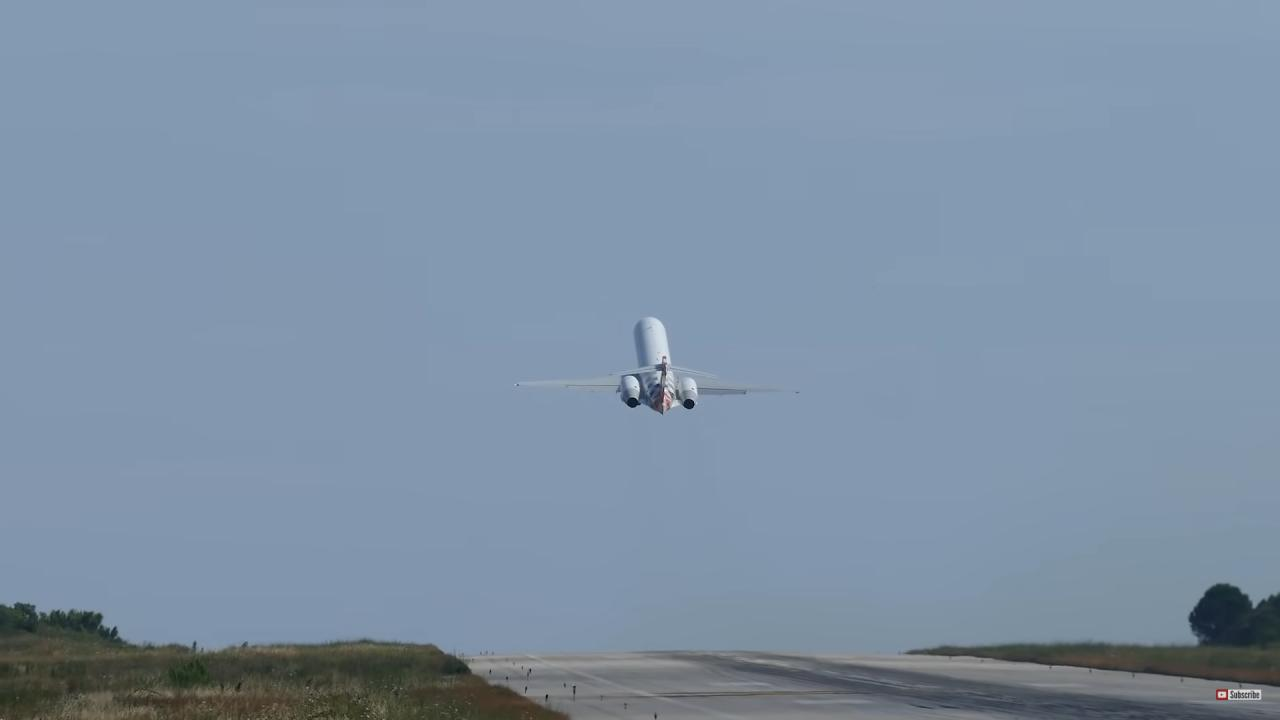Airplane: (504, 300, 816, 428)
